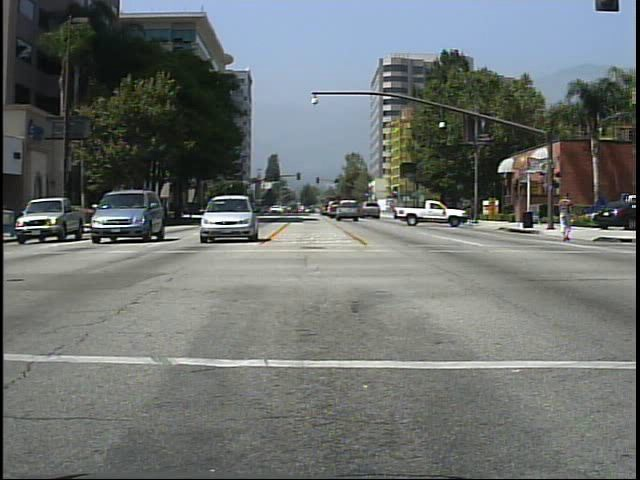person: (555, 189, 578, 243)
